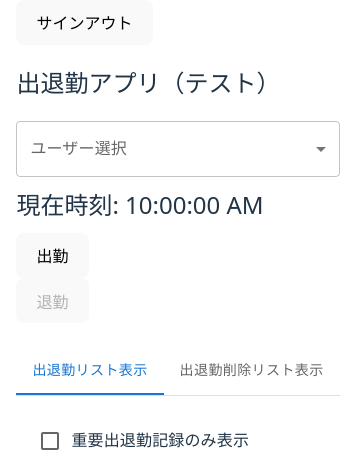
Test case: Outputmain › #9:ユーザーを選択していない状態で出勤ボタンを押したときの表示が正常である
Click the button "出勤" at (53, 255), box [16,233,89,278]
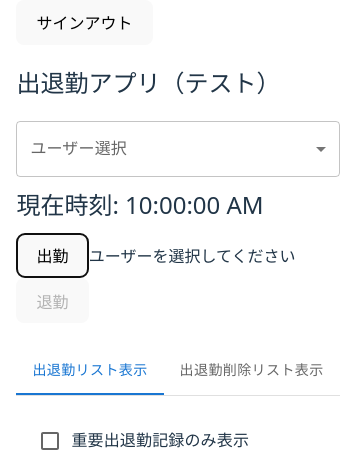
Check: the text "ユーザーを選択してください" is shown, box [89,245,296,267]
